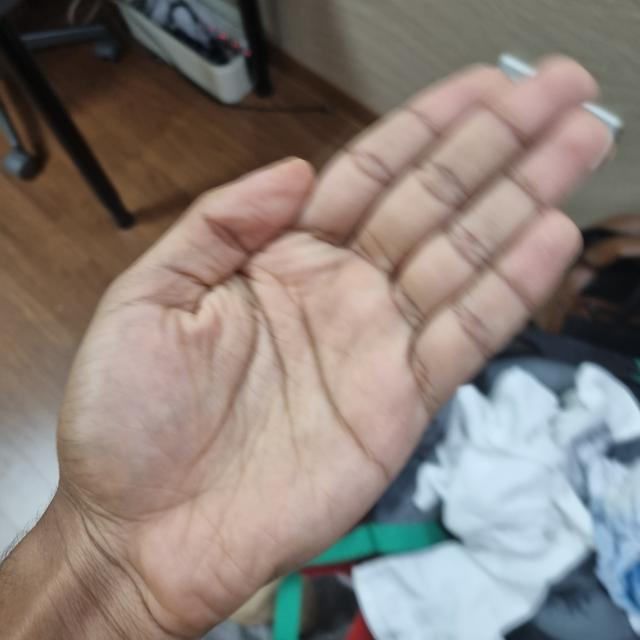Paper: (65, 53, 613, 627)
